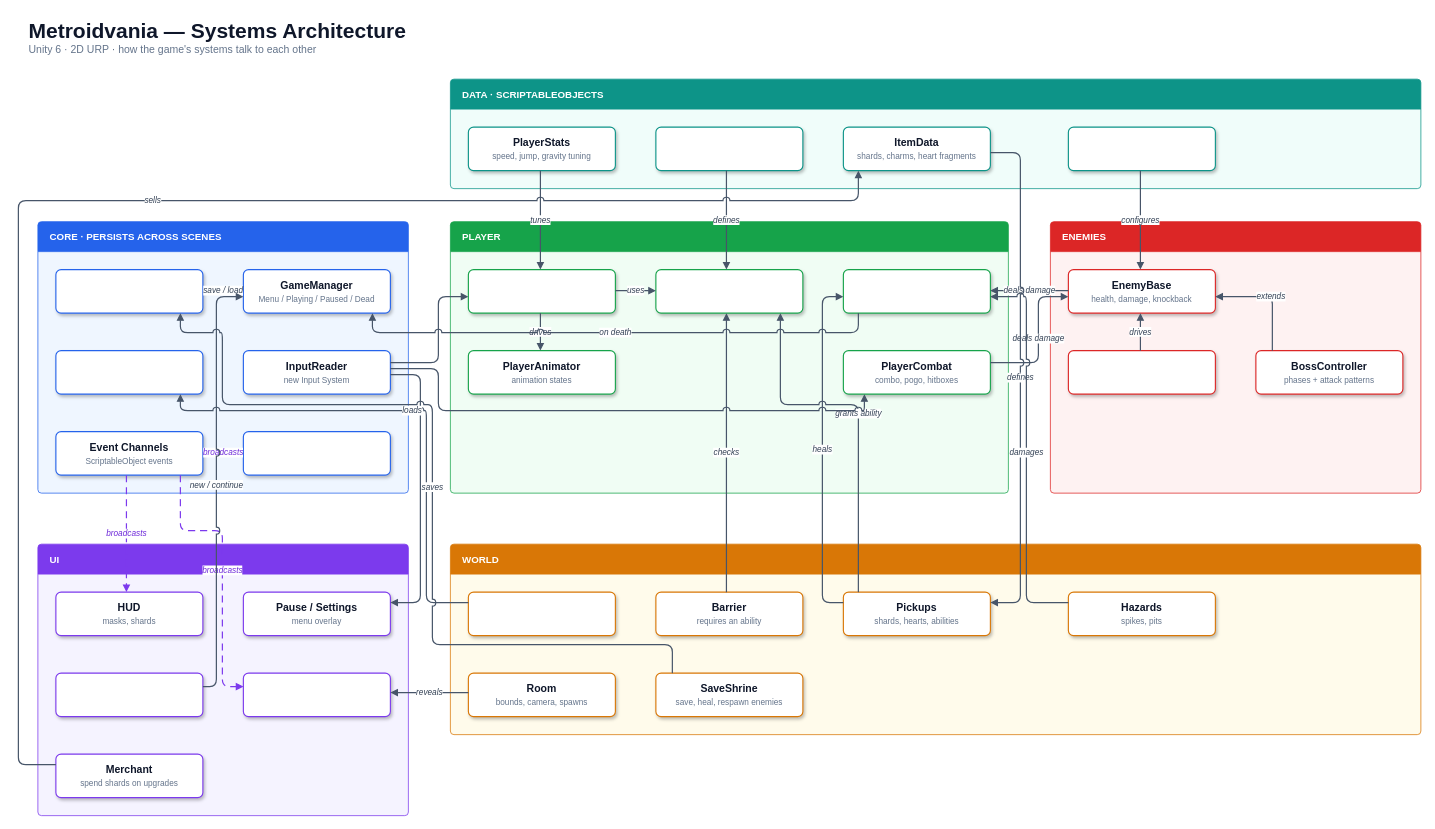
Some shapes in this 1435 by 829 pixel diagram are drawn without their labels. The shapes that lost their labels are listed below. From the top down, each one's centre as x and y in pixels, then its label:
At [730,149]: "AbilityData dash, wall jump, double jump…".
At [1142,149]: "EnemyData HP, damage, ranges".
At [130,292]: "SaveManager JSON save / load".
At [542,292]: "PlayerController run, jump, gravity".
At [730,292]: "PlayerAbilities unlocked ability flags".
At [917,292]: "PlayerHealth masks, i-frames, death".
At [130,373]: "SceneLoader region + room transitions".
At [1142,373]: "State Machine AI Patrol / Chase / Attack / Hurt".
At [317,454]: "AudioManager music + SFX".
At [542,614]: "Door / Transition moves between rooms".
At [130,695]: "Main Menu new game / continue".
At [317,695]: "Map Screen explored rooms, markers".
